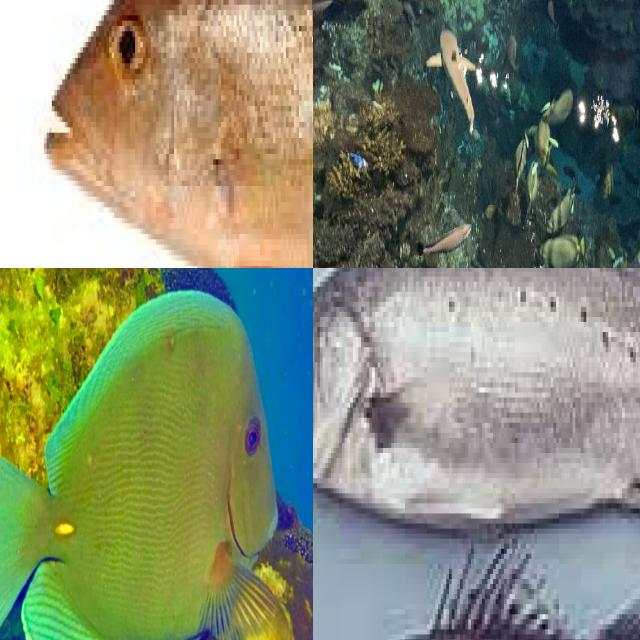fish: (0, 274, 246, 634), (313, 268, 640, 533), (0, 0, 313, 268), (428, 23, 480, 129)
